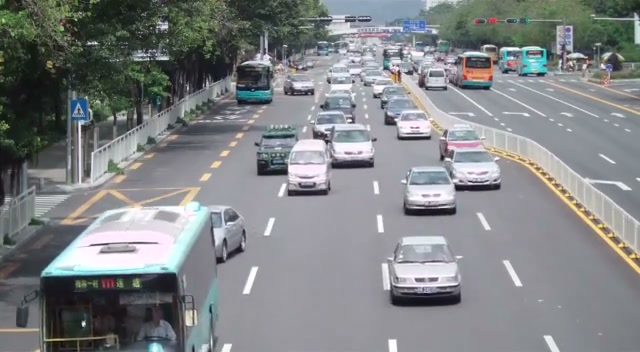bus: (38, 202, 220, 352), (235, 60, 274, 104), (455, 51, 494, 89), (518, 46, 547, 76), (498, 46, 520, 74)
car: (381, 235, 463, 305), (401, 164, 457, 215), (287, 138, 334, 195), (445, 147, 502, 191), (205, 204, 247, 263), (254, 125, 299, 175), (328, 122, 375, 167), (437, 126, 488, 161), (396, 110, 432, 140), (383, 95, 419, 125), (312, 110, 347, 139), (321, 93, 356, 122), (284, 73, 315, 96), (423, 68, 449, 91)
pedestrian: (135, 304, 176, 343)
truck: (519, 46, 547, 76), (498, 47, 521, 74)
